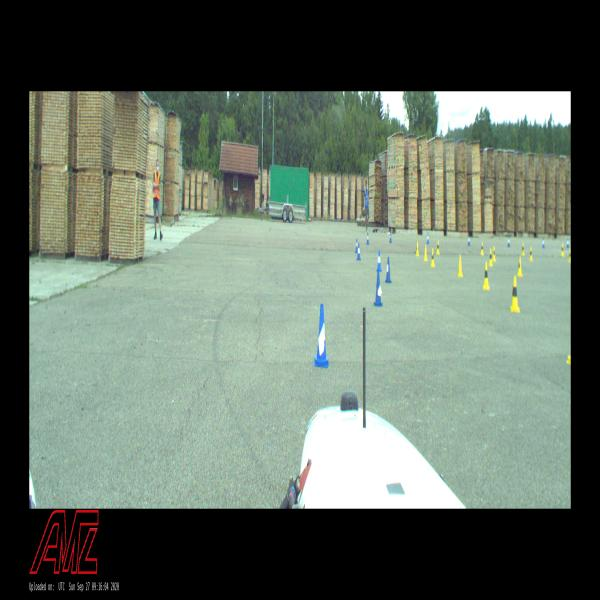blue_cone: (313, 304, 329, 367), (374, 271, 382, 306), (386, 257, 392, 282), (377, 250, 382, 270), (357, 242, 360, 260), (355, 239, 358, 253), (542, 237, 545, 248), (389, 232, 392, 242), (566, 239, 569, 248), (367, 232, 369, 245), (508, 236, 510, 247), (427, 233, 429, 244), (468, 235, 470, 245)
yellow_cone: (510, 276, 519, 312), (483, 262, 489, 290), (457, 255, 463, 277), (517, 256, 523, 276), (431, 248, 435, 267), (488, 249, 492, 266), (424, 245, 427, 261), (493, 246, 496, 261), (416, 242, 419, 256), (436, 241, 439, 254), (568, 249, 571, 262), (561, 244, 564, 256), (530, 247, 532, 260), (481, 242, 483, 254), (522, 243, 524, 255)
